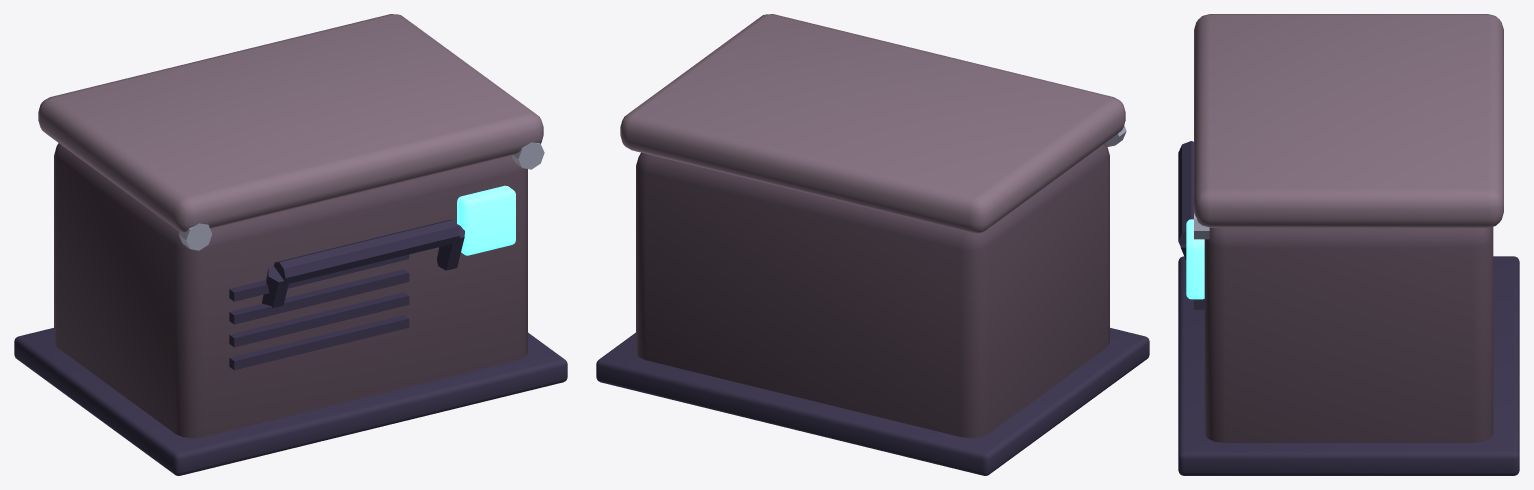
File: part_powerbox.glb
3 renders of one model, left to right at view 1: azimuth 30°, elevation 25°; view 2: azimuth 150°, elevation 25°; view 3: azimuth 270°, elevation 25°, orthographic. The views are drawn at different scales.
Parts seen in each view (by area): view 1: part_powerbox; view 2: part_powerbox; view 3: part_powerbox.
Boxes of the visible parts, x1,y1,x2,y2 form: part_powerbox: [14, 14, 567, 475]; part_powerbox: [596, 14, 1149, 475]; part_powerbox: [1178, 14, 1519, 475].
Bounding box in the file's own units: 0.9 × 0.58 × 0.65.
